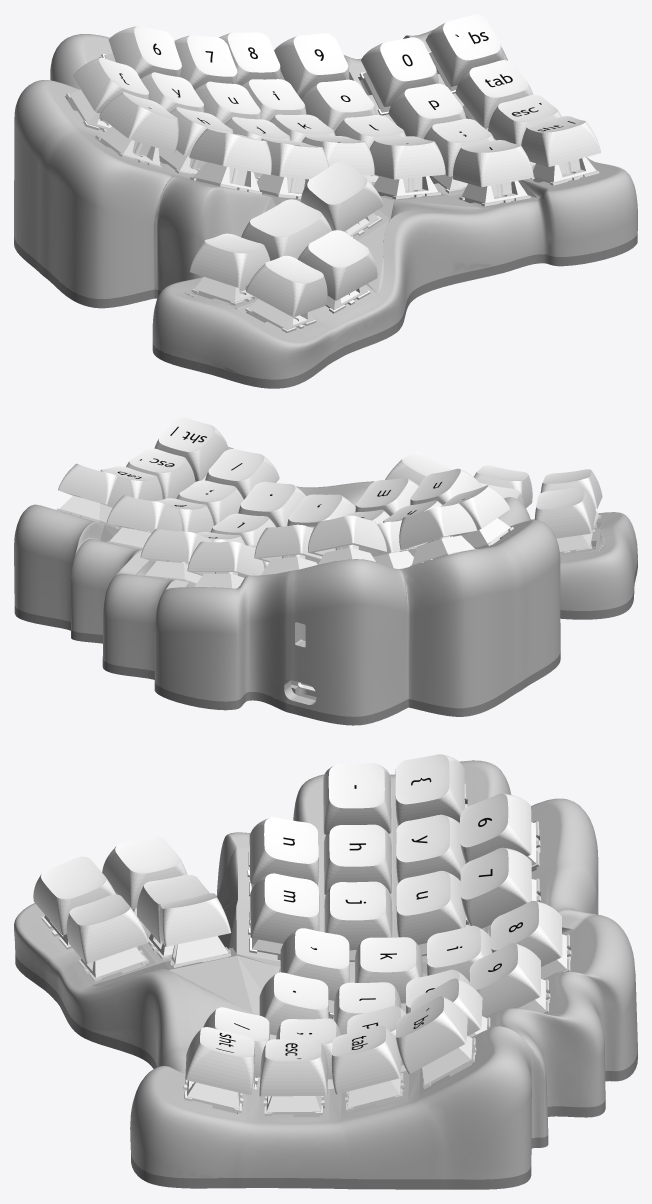
Rendered from theblobright.glb.
The picture shows the model from 3 angles, top to bottom: view 1: azimuth 30°, elevation 25°; view 2: azimuth 150°, elevation 25°; view 3: azimuth 270°, elevation 25°; orthographic projection. The views are drawn at different scales.
Visible parts, largest first — view 1: Key (×31), Wall, Part (×10), Plate, Web, Sockets; view 2: Wall, Key (×25), Part (×10), Plate, Web; view 3: Key (×31), Wall, Web, Part (×7), Plate, Sockets.
Part boxes in pixels (x1,y1,x2,y2): Key (×31): (73, 14, 600, 317); Wall: (14, 29, 637, 379); Part (×10): (66, 89, 599, 332); Plate: (14, 234, 637, 388); Web: (84, 71, 550, 323); Sockets: (60, 48, 605, 336); Wall: (14, 446, 637, 716); Key (×25): (58, 417, 602, 577); Part (×10): (56, 495, 595, 588); Plate: (14, 547, 637, 725); Web: (100, 487, 604, 587); Key (×31): (33, 754, 562, 1096); Wall: (14, 760, 637, 1179); Web: (65, 792, 574, 1118); Part (×7): (78, 934, 571, 1116); Plate: (15, 954, 637, 1189); Sockets: (34, 779, 575, 1118).
Size of the model in its own units: 17.01 by 6.14 by 16.7.
34 materials, 26 textured.
